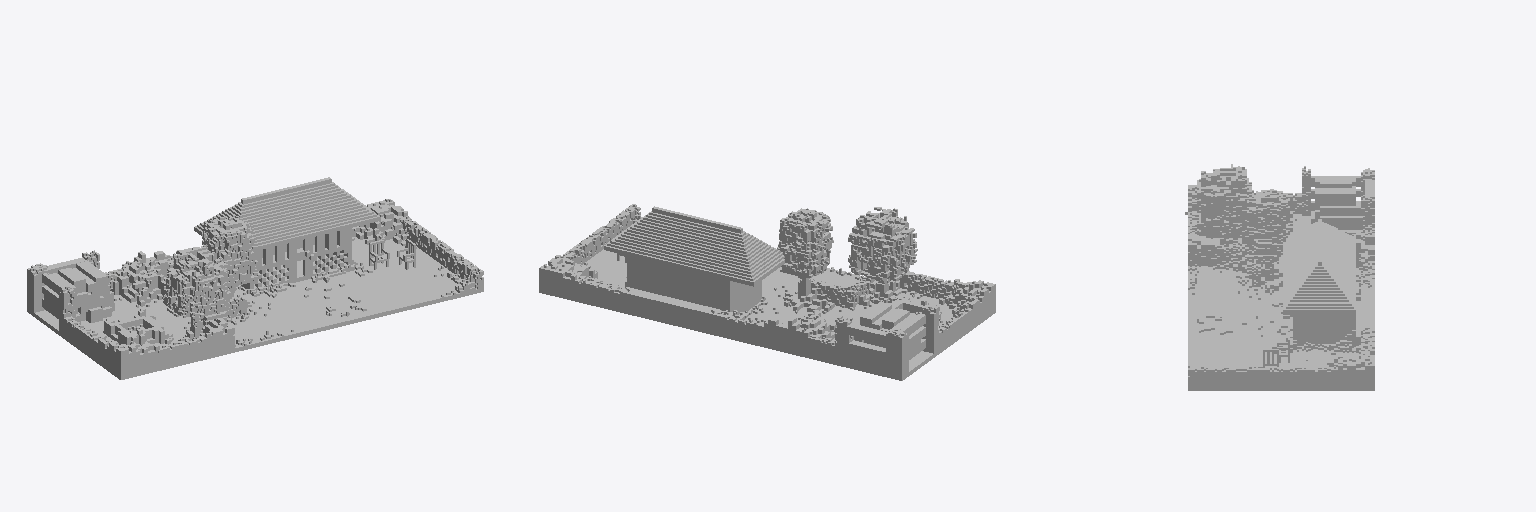
The model's file is Primer escenario.obj.
3 renders of one model, left to right at view 1: azimuth 30°, elevation 25°; view 2: azimuth 150°, elevation 25°; view 3: azimuth 270°, elevation 25°, orthographic.
Parts seen in each view (by area): view 1: object 1; view 2: object 1; view 3: object 1.
Boxes of the visible parts, x1=… form: object 1: x1=27, y1=177, x2=483, y2=379; object 1: x1=539, y1=204, x2=995, y2=380; object 1: x1=1185, y1=164, x2=1374, y2=390.
Bounding box in the file's own units: 18.4 × 4.5 × 8.3.